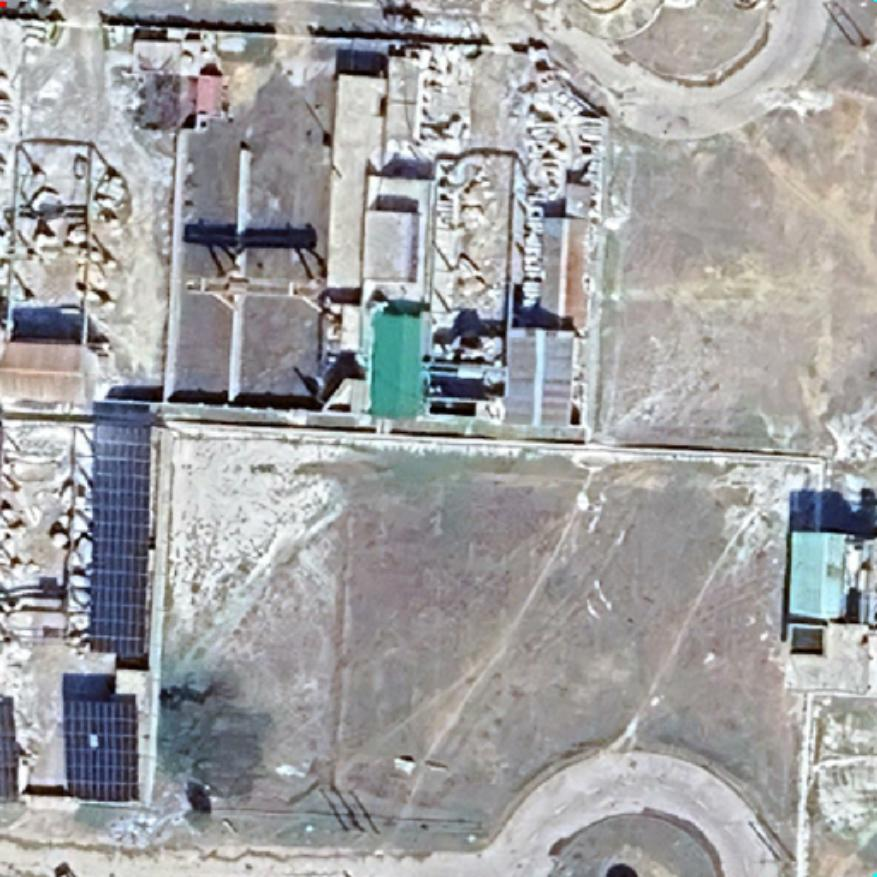Solarpanel: (82, 418, 156, 662), (59, 688, 143, 806), (0, 693, 20, 803)
